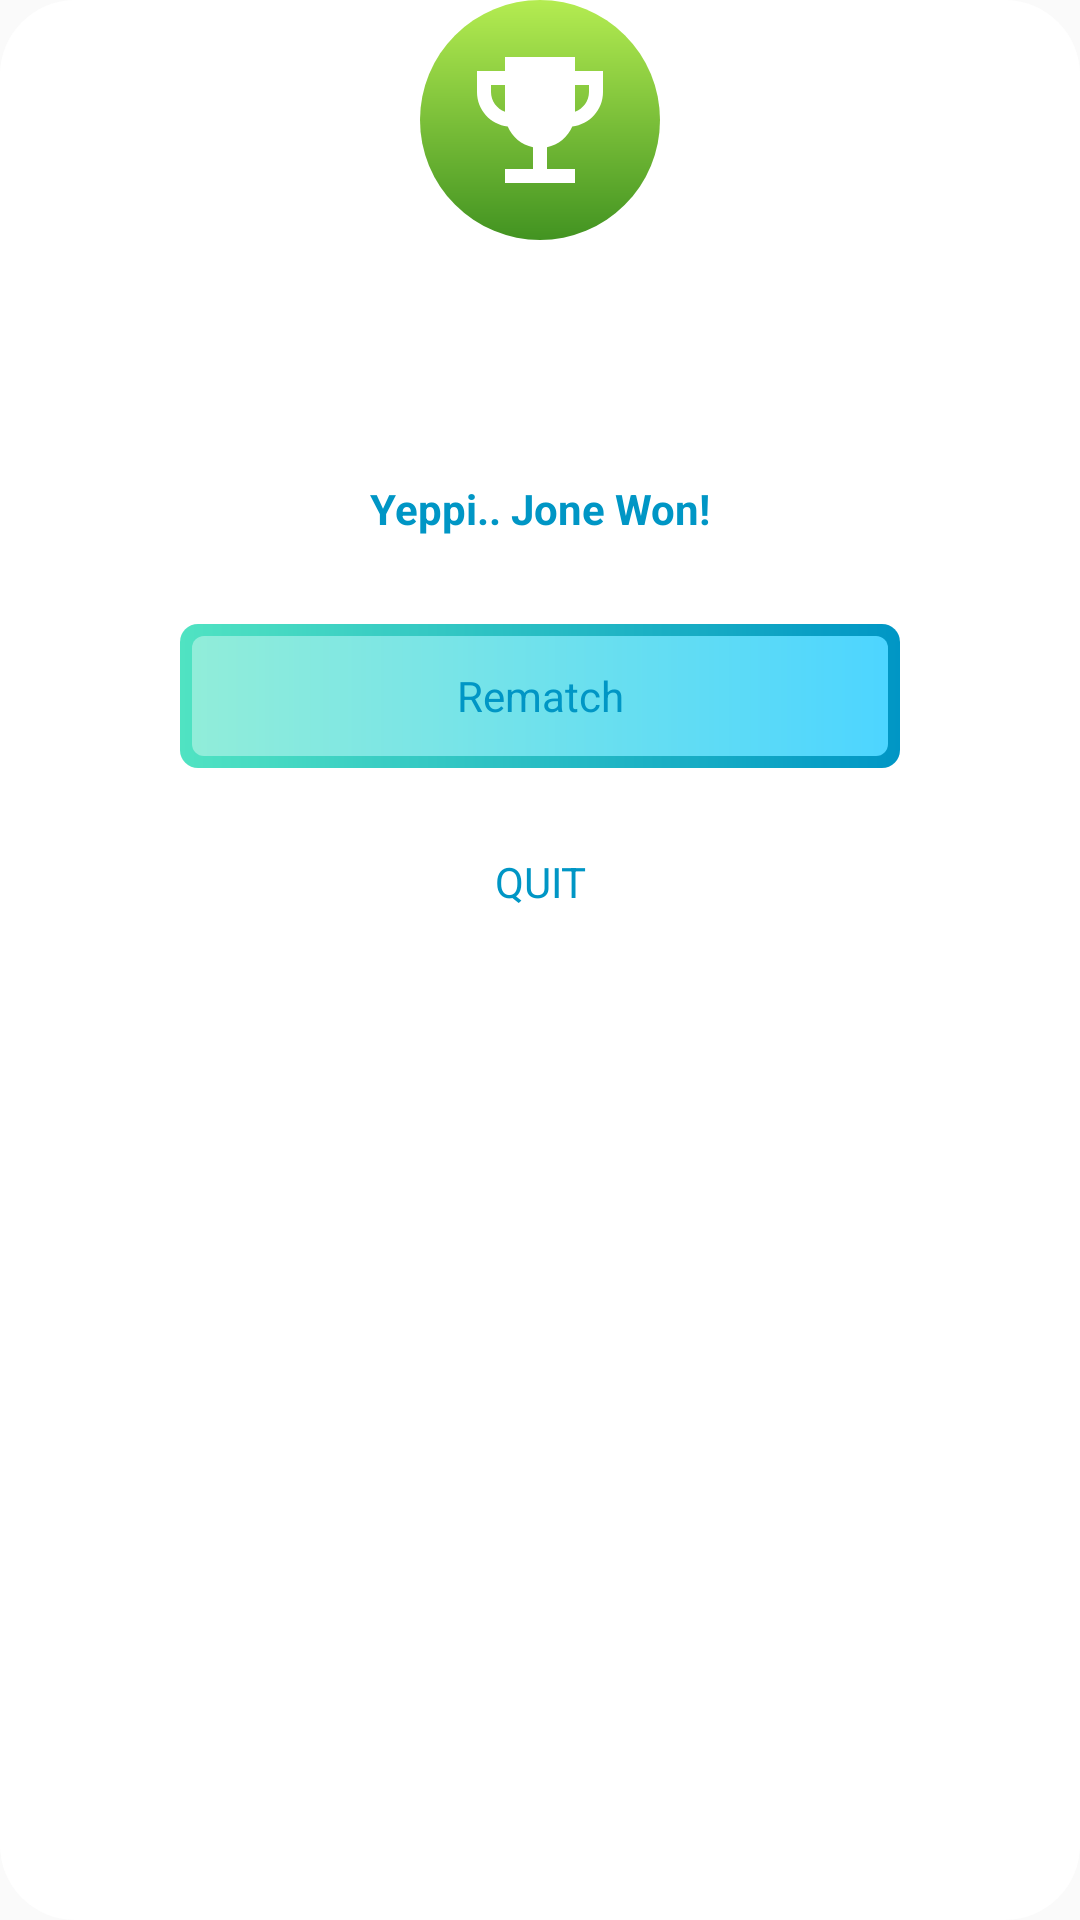

Locate icon controls on the screen. Image size 1080×1920, boxes as (x1, y1, x2, y2).
trophy won: (420, 0, 660, 240)
